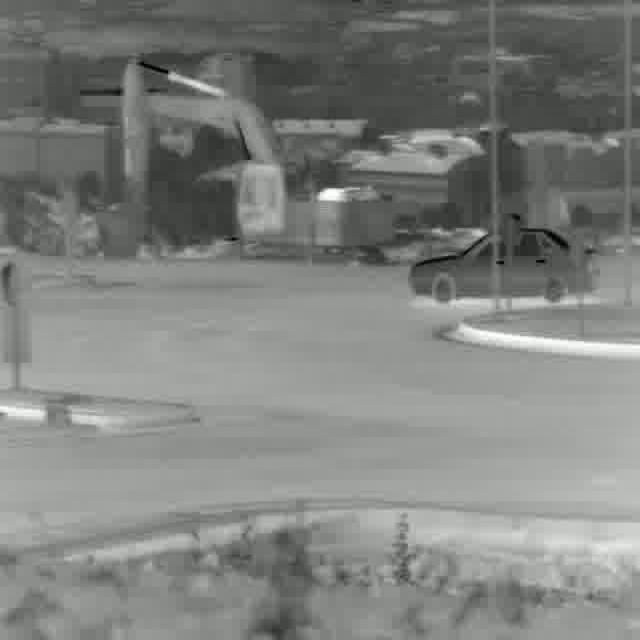Car: (409, 228, 599, 304)
